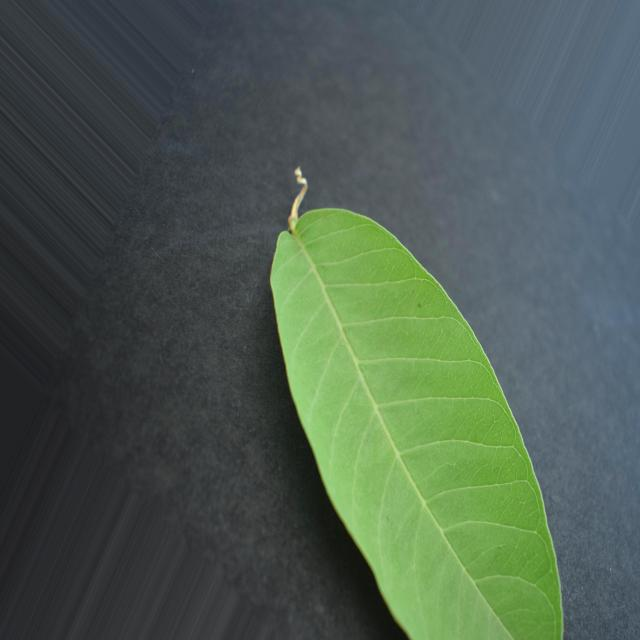Healthy: (270, 167, 562, 639)
